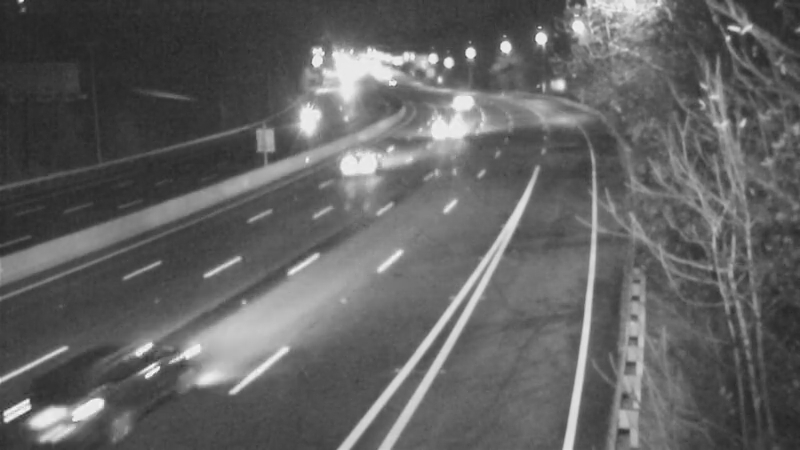vehicle: (15, 347, 125, 450), (315, 127, 395, 207), (437, 72, 487, 122), (411, 98, 461, 148), (287, 91, 337, 141)
